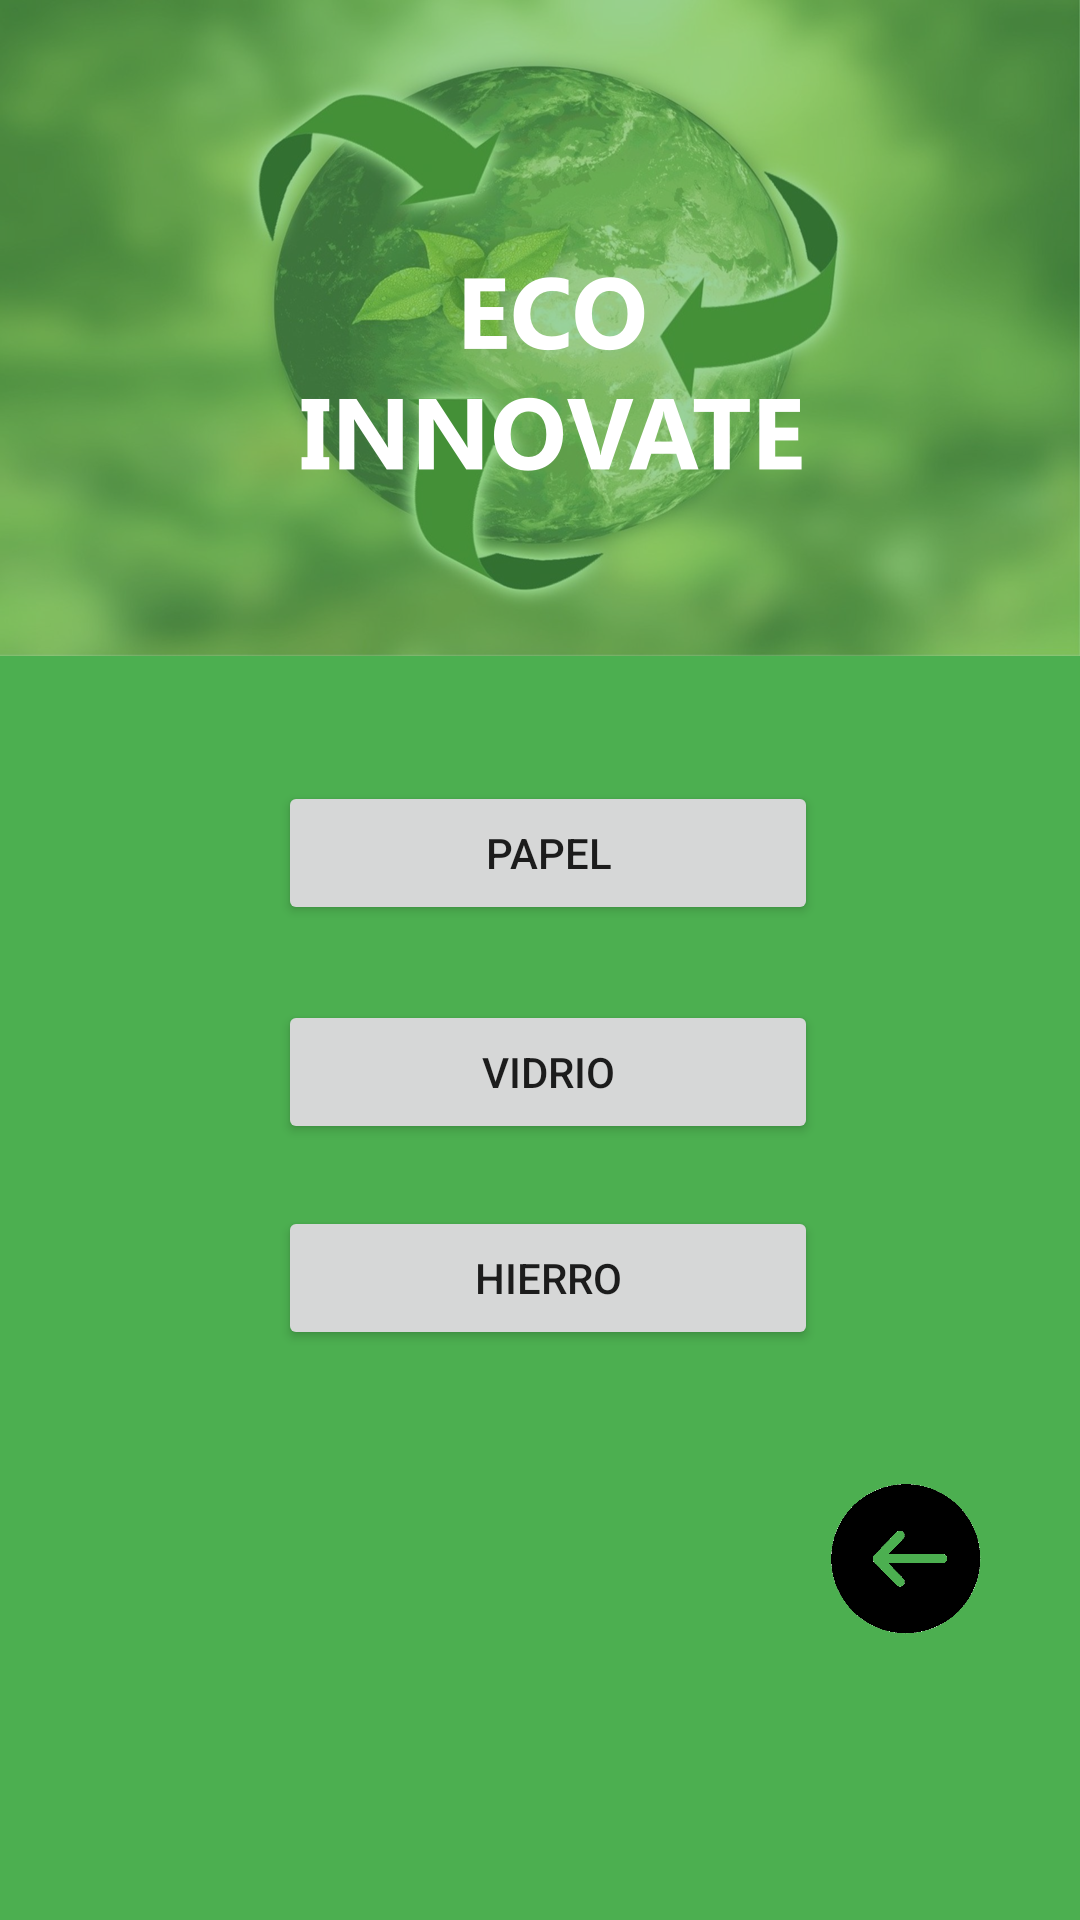

Screen size 1080px x 1920px. Icon name, then its center in pixels as [x,y]:
flechanegro: [906,1558]
